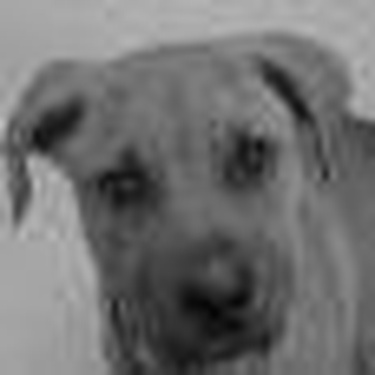dog: (3, 21, 372, 374)
